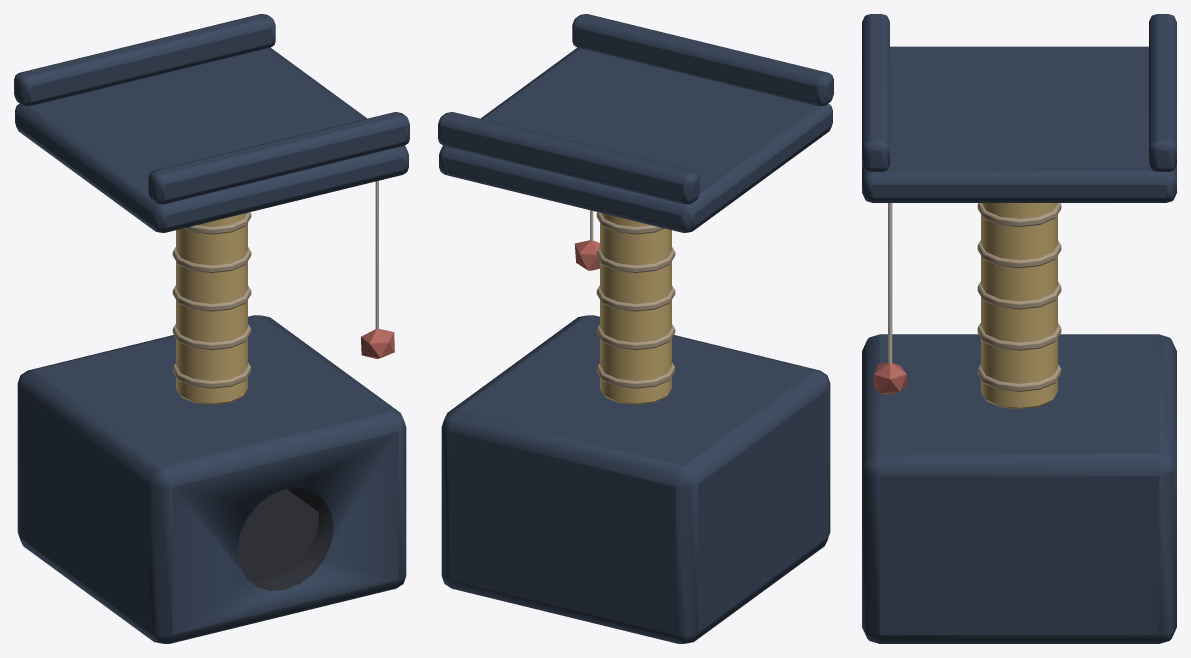
File: cat_tree.fbx
3 renders of one model, left to right at view 1: azimuth 30°, elevation 25°; view 2: azimuth 150°, elevation 25°; view 3: azimuth 270°, elevation 25°, orthographic. The views are drawn at different scales.
Parts seen in each view (by area): view 1: cat_tree; view 2: cat_tree; view 3: cat_tree.
Boxes of the visible parts, x1,y1,x2,y2 form: cat_tree: (14, 14, 409, 643); cat_tree: (438, 14, 833, 643); cat_tree: (862, 14, 1176, 643).
Bounding box in the file's own units: 0.45 × 0.45 × 0.8.
